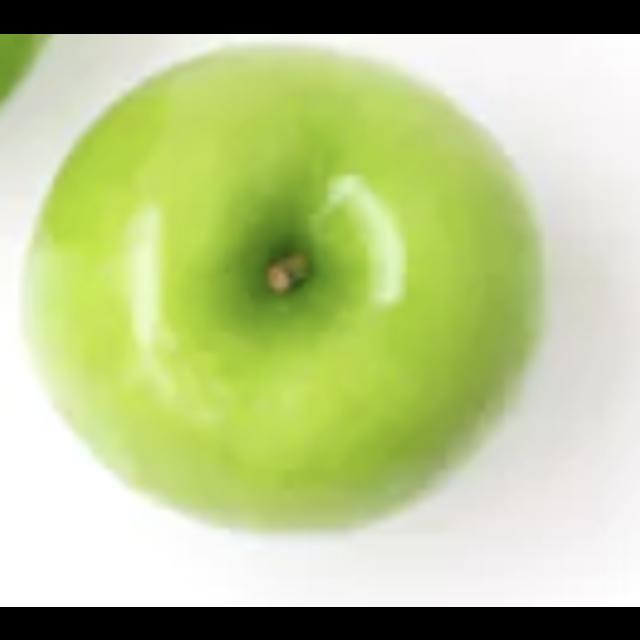Apel Segar: (19, 66, 558, 532)
